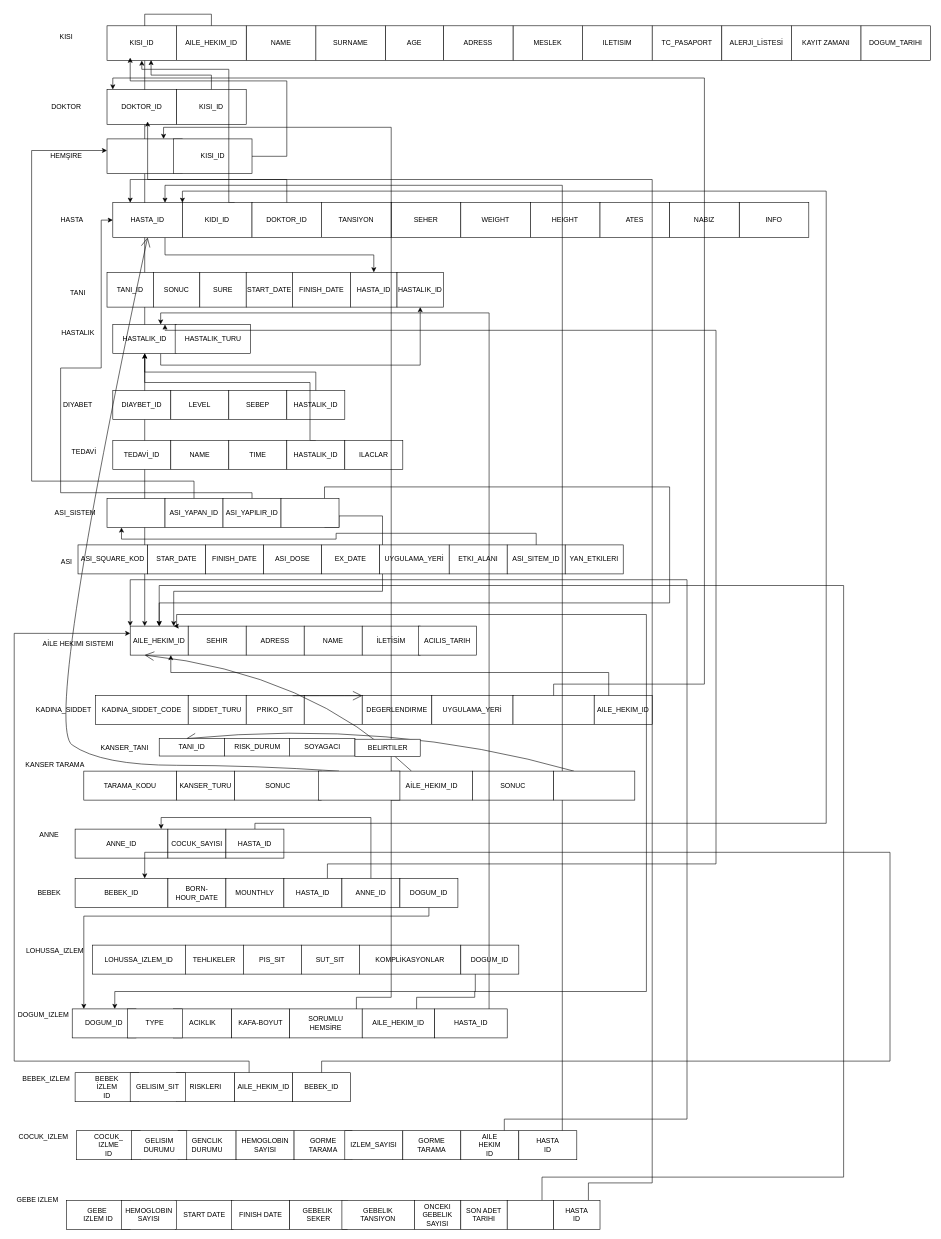
The diagram is 941 pixels wide and 1239 high, and some of its shapes have lost their labels. Here are the shapes that lost their labels. From the top down, the centre of each, then its label:
point 144,156: HEMSIRE_ID
point 135,513: ASI_SISTEM_ID
point 309,513: AILE_HEKIMI_ID
point 333,710: KAYIT_TIME
point 553,710: MUAYENE_DOKTOR
point 359,785: HASTA-ID
point 594,785: KANSER_TANI_ID
point 530,1214: AİLE HEKIM ID
